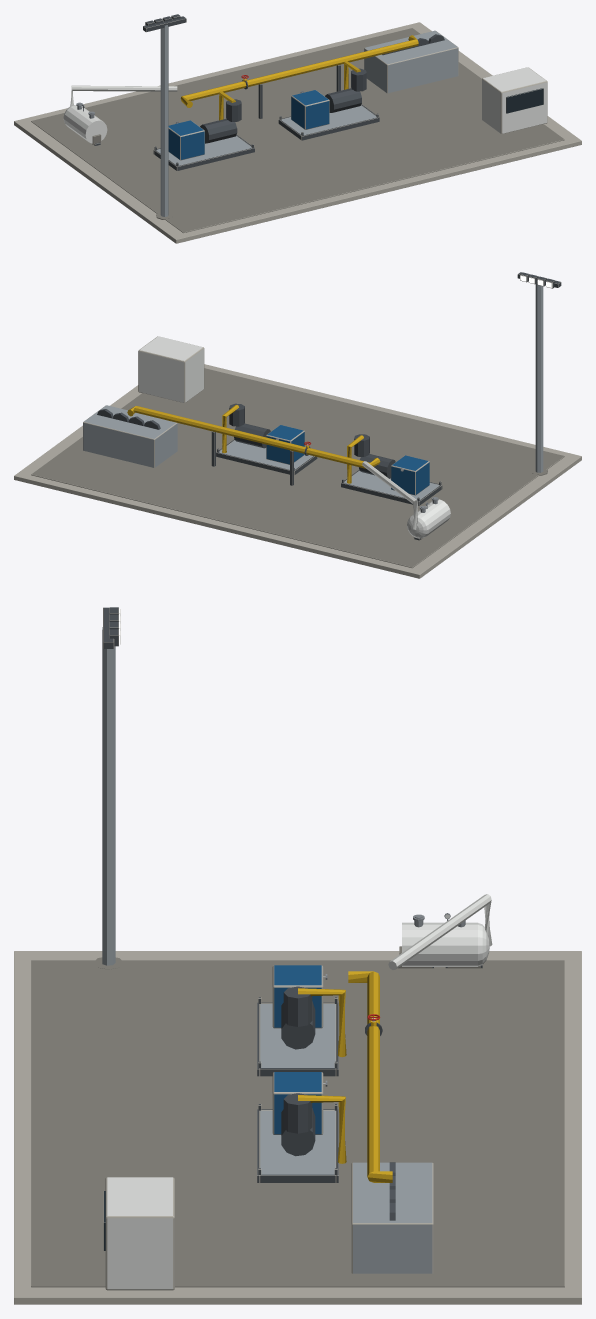
Rendered from on_compressor_station.glb.
The picture shows the model from 3 angles, top to bottom: view 1: azimuth 30°, elevation 25°; view 2: azimuth 150°, elevation 25°; view 3: azimuth 270°, elevation 25°; orthographic projection. The views are drawn at different scales.
Visible parts, largest first — view 1: on_compressor_station; view 2: on_compressor_station; view 3: on_compressor_station.
Part boxes in pixels (x1=…): on_compressor_station: x1=14, y1=14, x2=581, y2=243; on_compressor_station: x1=14, y1=272, x2=581, y2=578; on_compressor_station: x1=14, y1=607, x2=581, y2=1304.
Size of the model in its own units: 26.3 by 12.25 by 18.
